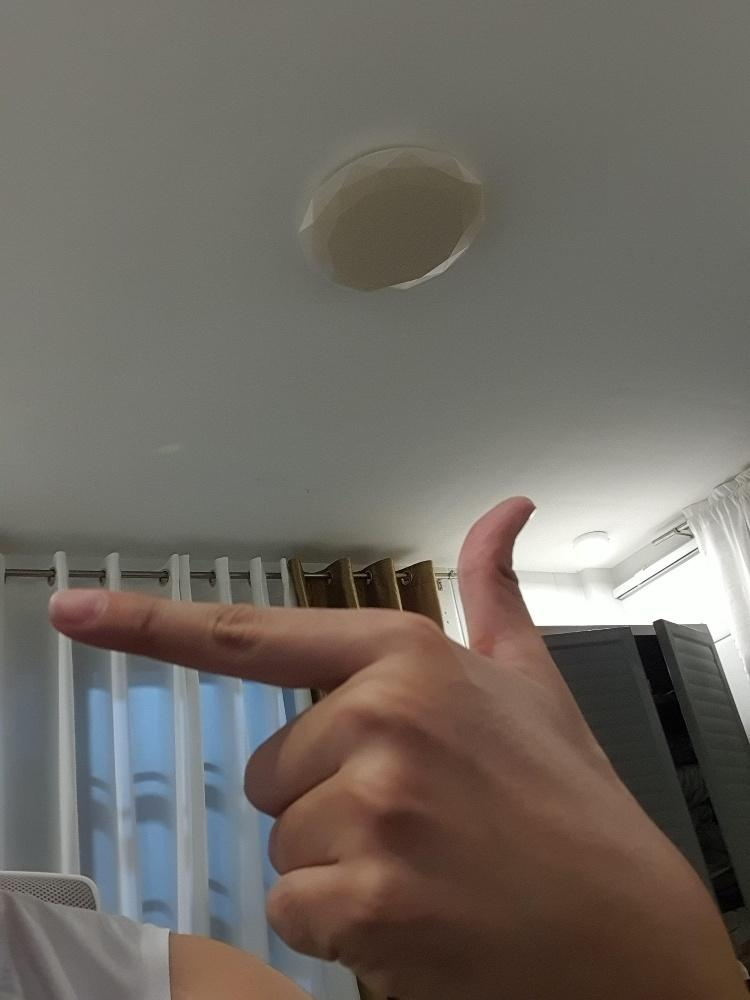g: (43, 486, 744, 999)
